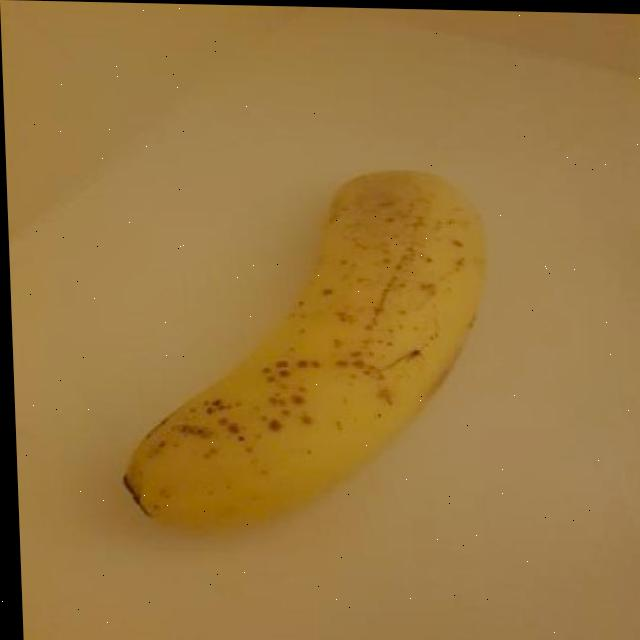banana: (97, 150, 497, 554)
